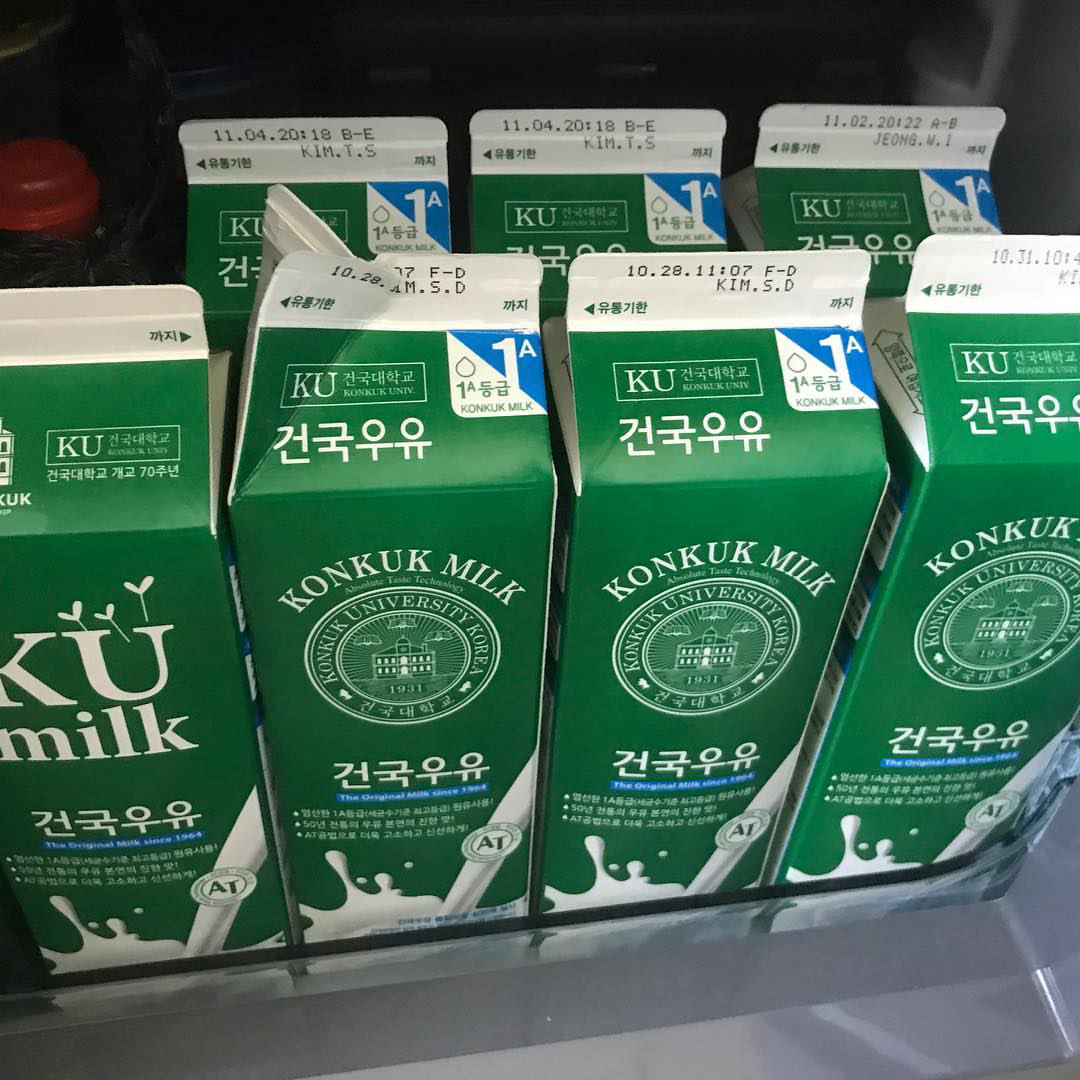milk: (9, 98, 1080, 1016)
